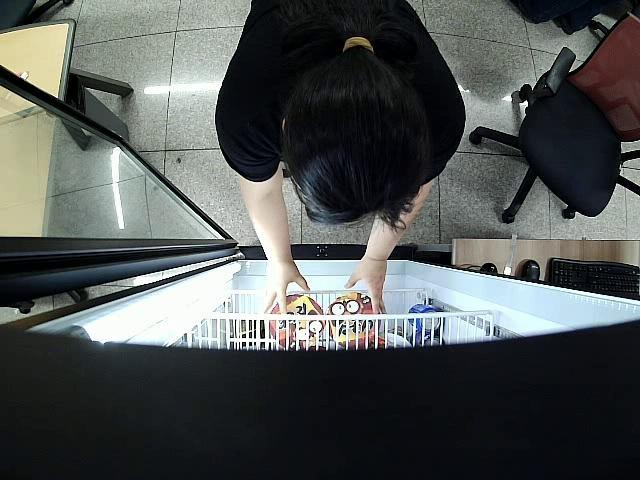05_nuguri_L: (268, 296, 322, 348), (330, 292, 381, 347)
